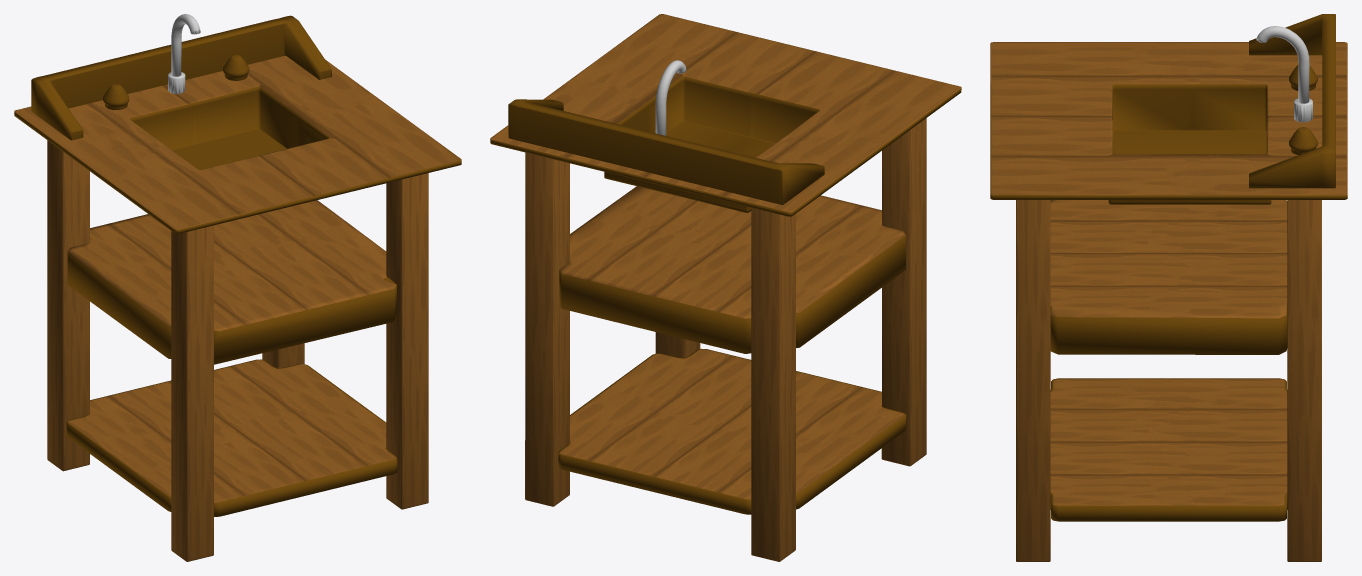
File: Sink.fbx
3 views of the same model, side by side, from view 1: azimuth 30°, elevation 25°; view 2: azimuth 150°, elevation 25°; view 3: azimuth 270°, elevation 25° (orthographic). The views are drawn at different scales.
Parts seen in each view (by area): view 1: Sink, Faucet; view 2: Sink, Faucet; view 3: Sink, Faucet.
Part boxes in pixels (left/top/right/bottom): Sink: left=14, top=15, right=461, bottom=561; Faucet: left=103, top=14, right=249, bottom=109; Sink: left=490, top=14, right=961, bottom=561; Faucet: left=655, top=60, right=686, bottom=135; Sink: left=990, top=14, right=1347, bottom=561; Faucet: left=1256, top=26, right=1317, bottom=154.
Bounding box in the file's own units: 160 × 230 × 158.
